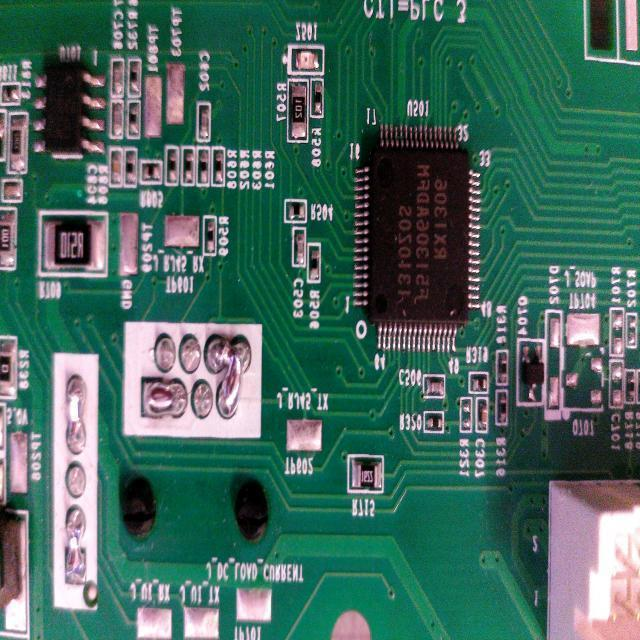Soldering bridge: (203, 326, 253, 422), (63, 370, 90, 458), (64, 506, 86, 584)
